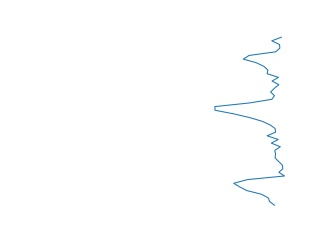underwaterNaturalLevee: (211, 35, 292, 206)
